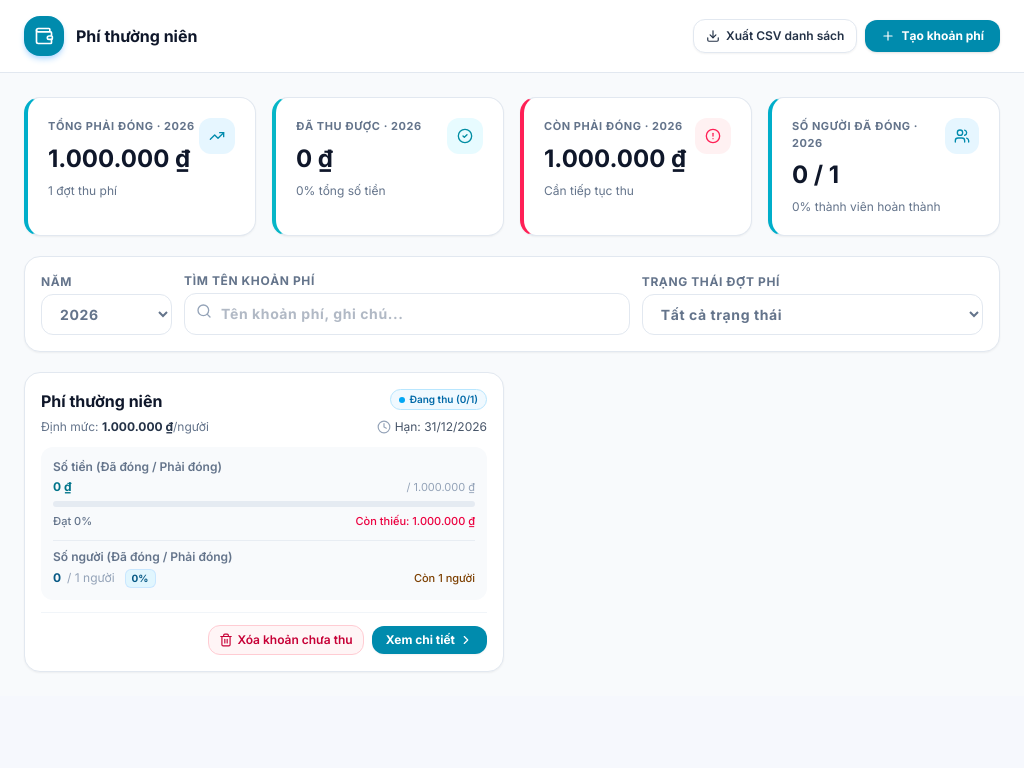
confirms deletion and removes the empty collection from the list
Step 1. Click the button "Xóa khoản chưa thu" → (286, 640), box top-left (208, 625), bottom-right (364, 655)
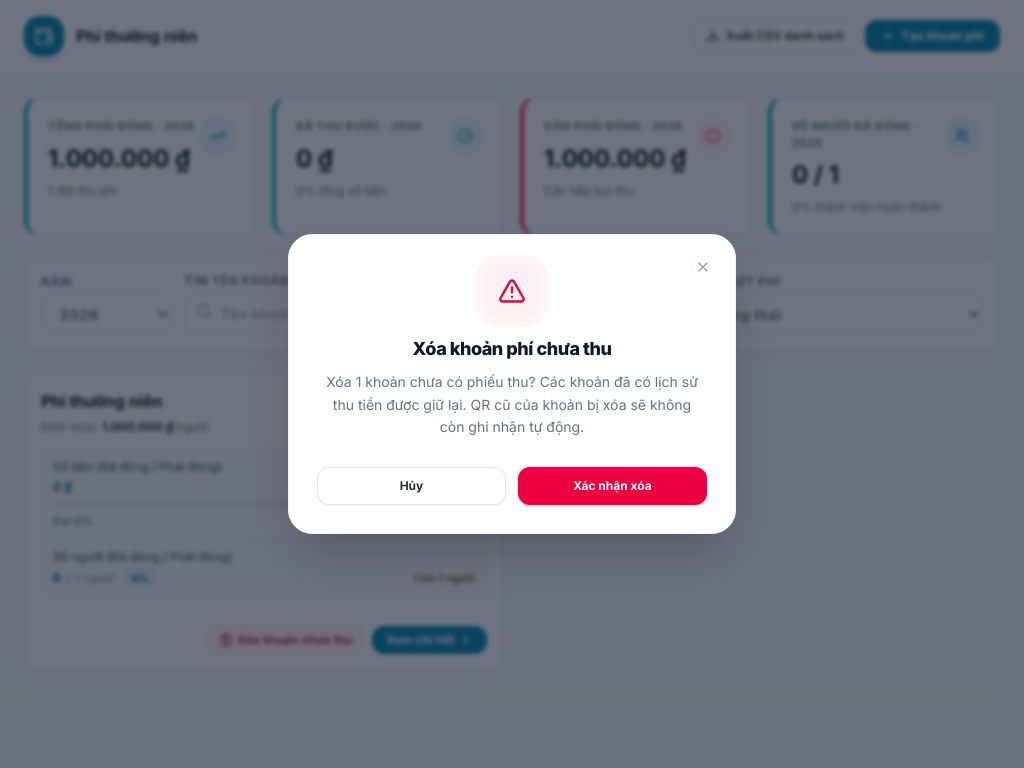
Step 2. Click the button "Xác nhận xóa" → (612, 486), box top-left (518, 467), bottom-right (707, 505)
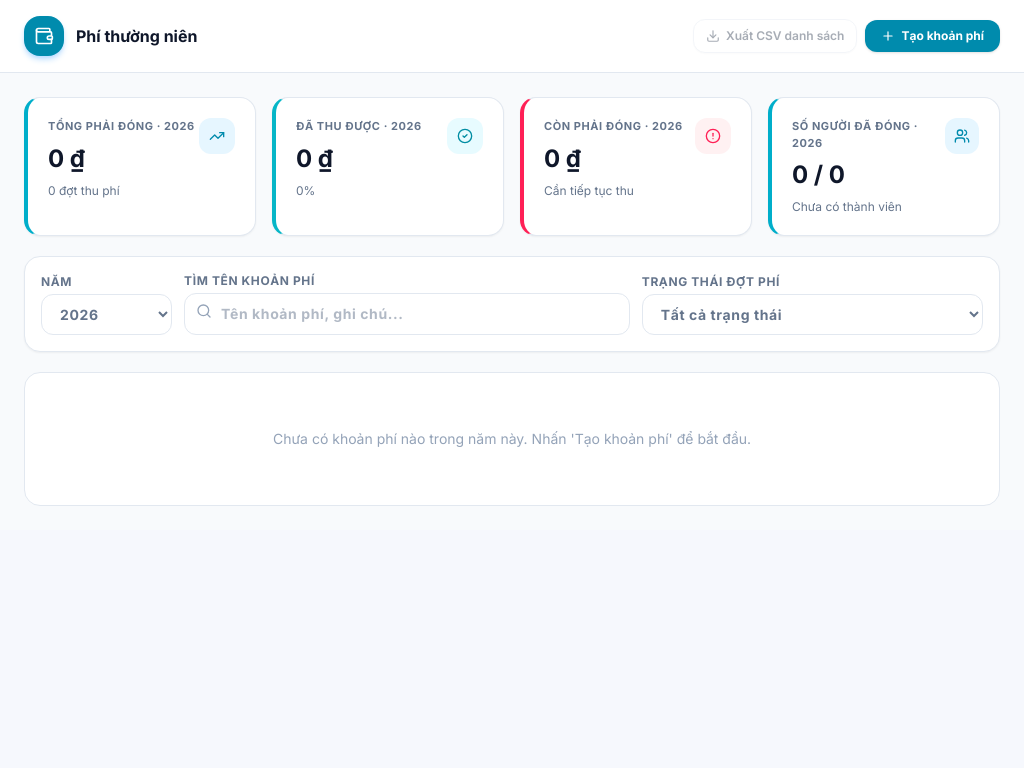
Check: the button "Xem chi tiết" is gone
